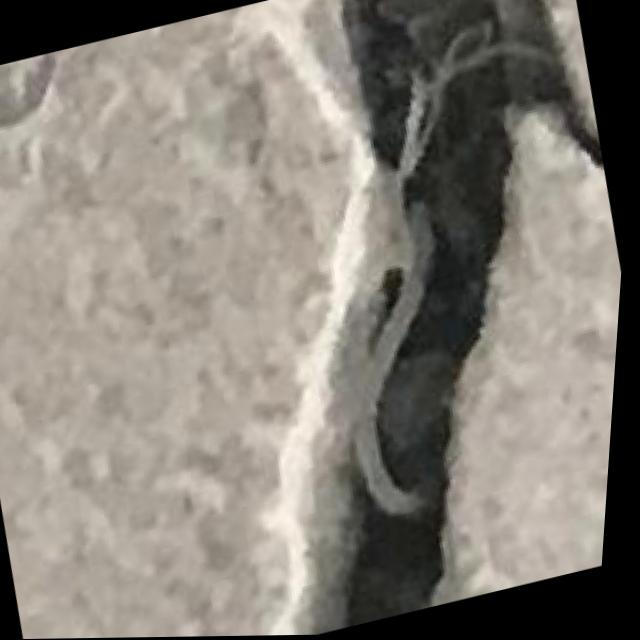Crack: (151, 0, 640, 638)
